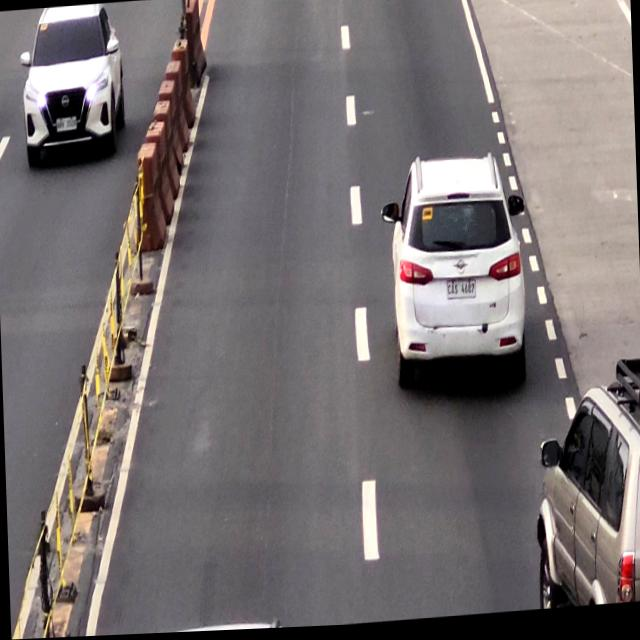Car: (387, 156, 529, 384), (532, 356, 640, 613)
License-Plate: (444, 282, 477, 306)
